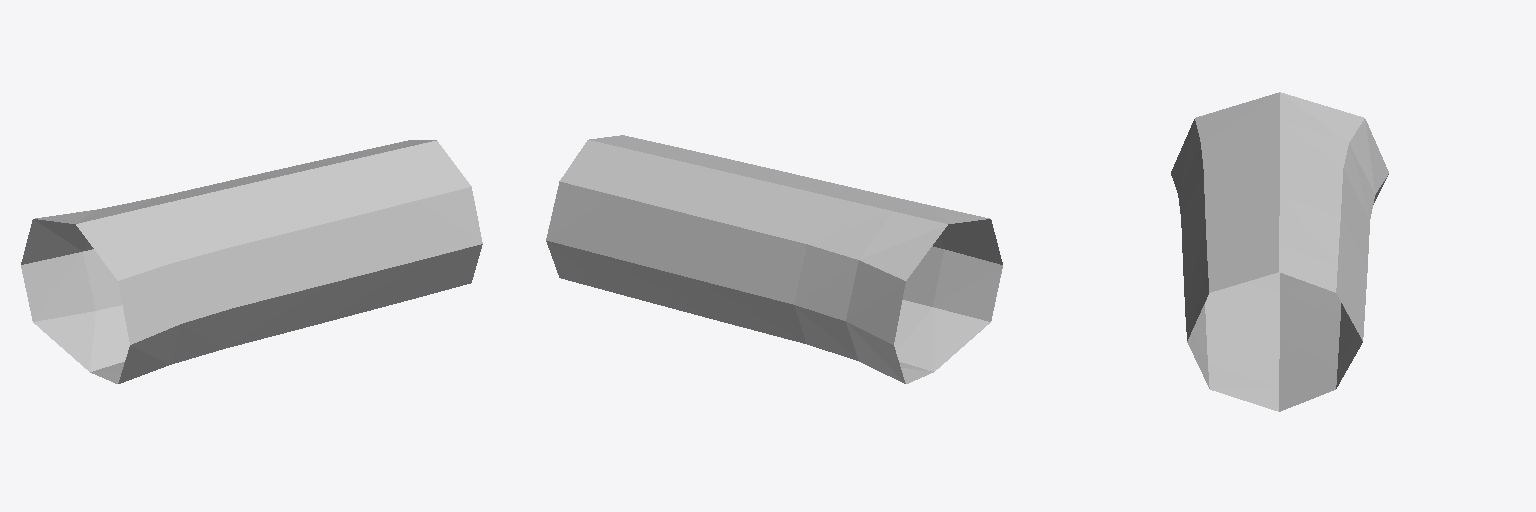
The model's file is low_arms_L.obj.
The picture shows the model from 3 angles: view 1: azimuth 30°, elevation 25°; view 2: azimuth 150°, elevation 25°; view 3: azimuth 270°, elevation 25°; orthographic projection.
Visible parts, largest first — view 1: Meowth.001; view 2: Meowth.001; view 3: Meowth.001.
Boxes of the visible parts, x1=… form: Meowth.001: x1=21, y1=140, x2=482, y2=383; Meowth.001: x1=546, y1=135, x2=1002, y2=383; Meowth.001: x1=1171, y1=92, x2=1388, y2=411.
Bounding box in the file's own units: 7.11 × 2.85 × 3.73.